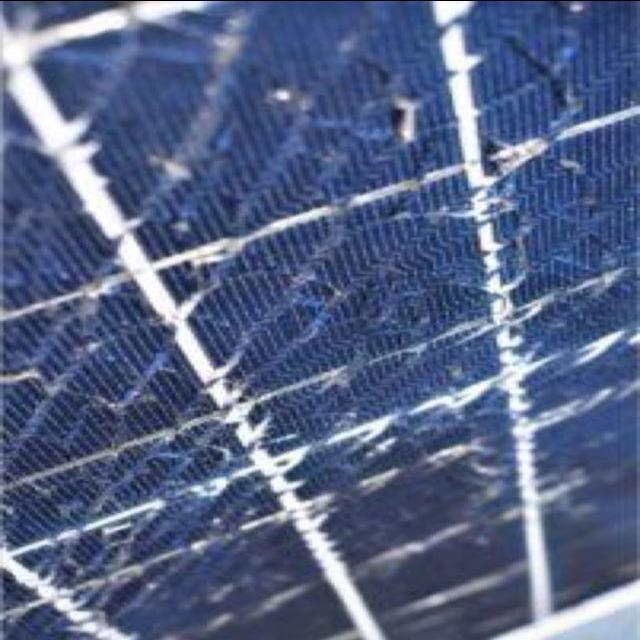cracked: (3, 4, 637, 638)
